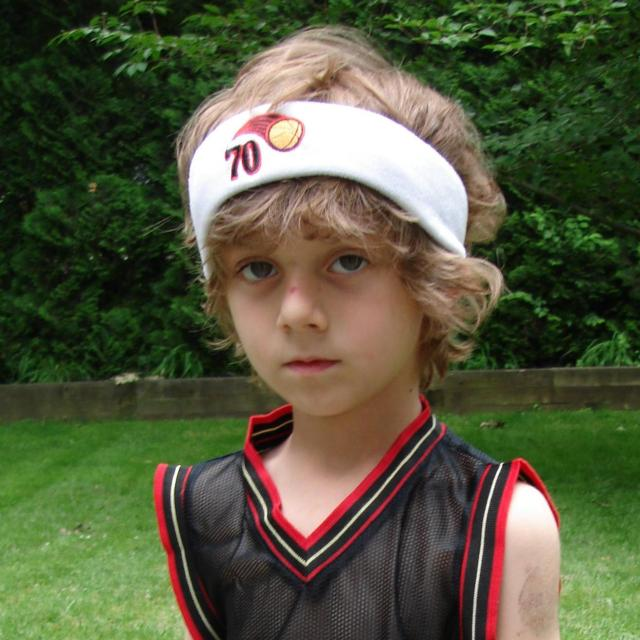no-glass: (232, 250, 376, 280)
